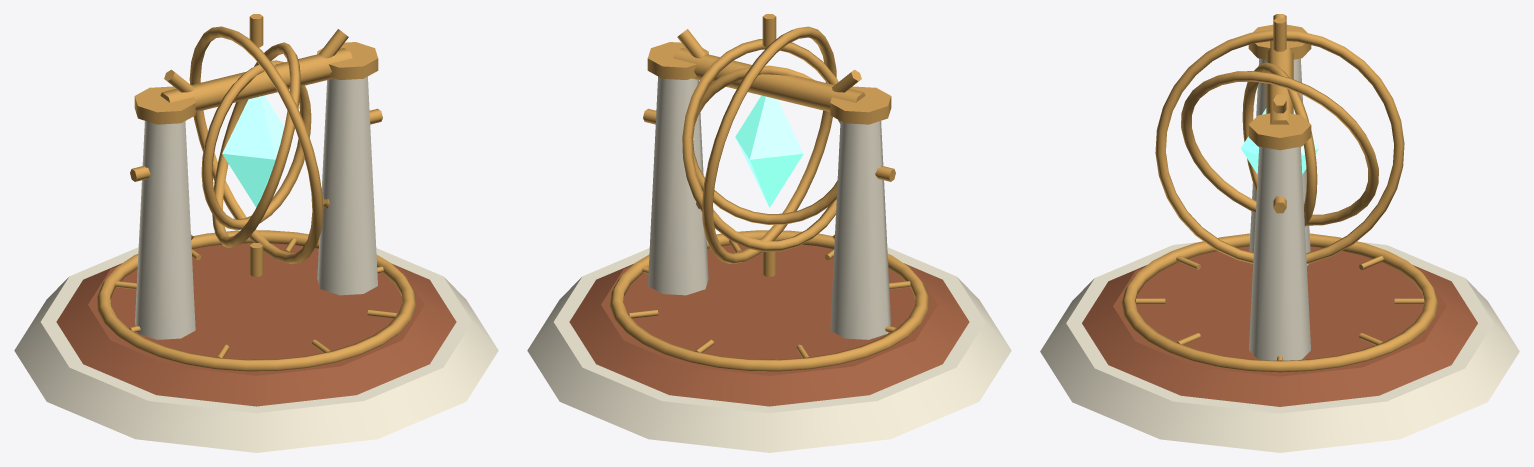
The model's file is station-2.glb.
3 views of the same model, side by side, from view 1: azimuth 30°, elevation 25°; view 2: azimuth 150°, elevation 25°; view 3: azimuth 270°, elevation 25° (orthographic).
Visible parts, largest first — view 1: chalk-sail-merged, ochre-ceramic-merged, aged-brass-merged, aether-glass-merged; view 2: chalk-sail-merged, ochre-ceramic-merged, aged-brass-merged, aether-glass-merged; view 3: chalk-sail-merged, ochre-ceramic-merged, aged-brass-merged, aether-glass-merged.
Part boxes in pixels (<box>): chalk-sail-merged: <box>14,76,498,452</box>; ochre-ceramic-merged: <box>56,243,456,406</box>; aged-brass-merged: <box>96,14,416,371</box>; aether-glass-merged: <box>222,95,284,207</box>; chalk-sail-merged: <box>527,76,1011,452</box>; ochre-ceramic-merged: <box>569,244,969,406</box>; aged-brass-merged: <box>609,14,929,371</box>; aether-glass-merged: <box>735,95,803,207</box>; chalk-sail-merged: <box>1040,58,1519,452</box>; ochre-ceramic-merged: <box>1082,246,1477,406</box>; aged-brass-merged: <box>1121,14,1438,372</box>; aether-glass-merged: <box>1241,108,1318,174</box>.
Size of the model in its own units: 4.6 by 3.5 by 4.6.
